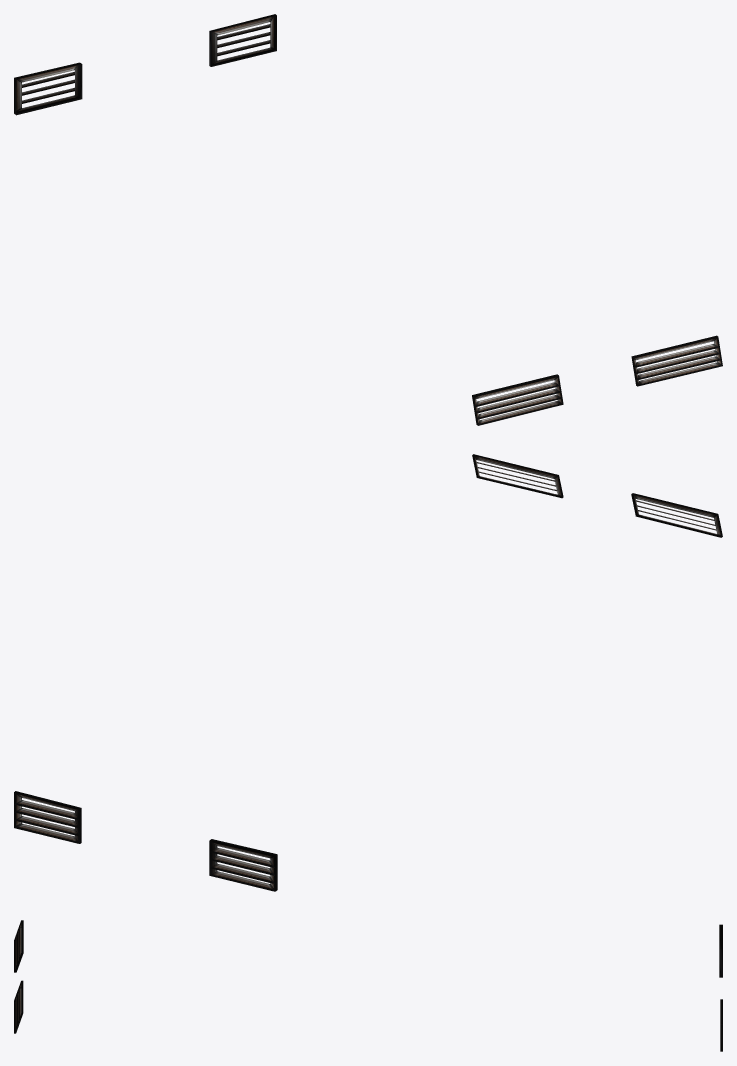
The model's file is misc_c_lr_rem3.glb.
3 views of the same model, one above another, from view 1: azimuth 30°, elevation 25°; view 2: azimuth 150°, elevation 25°; view 3: azimuth 270°, elevation 25° (orthographic). The views are drawn at different scales.
Parts seen in each view (by area): view 1: misc_c_lr_rem3; view 2: misc_c_lr_rem3; view 3: misc_c_lr_rem3.
Boxes of the visible parts, bbox=[...] form: misc_c_lr_rem3: bbox=[14, 14, 722, 425]; misc_c_lr_rem3: bbox=[14, 454, 722, 891]; misc_c_lr_rem3: bbox=[14, 920, 722, 1051].
Size of the model in its own units: 1.89 by 0.3146 by 5.7.
Materials: 1 (1 with a texture image).
